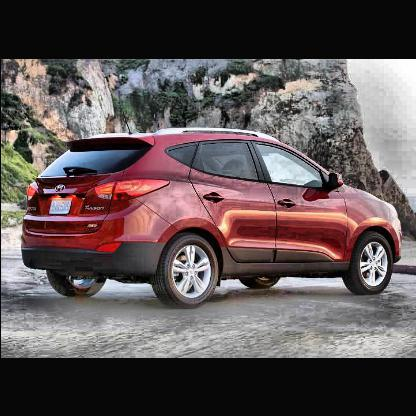Hyundai Tucson SUV 2012: (20, 129, 402, 307)
